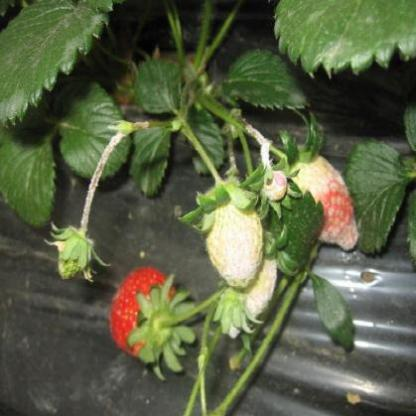Strawberry_Powdery_Mildew_Fruit: (262, 148, 360, 253), (197, 180, 264, 290), (221, 220, 279, 339)
